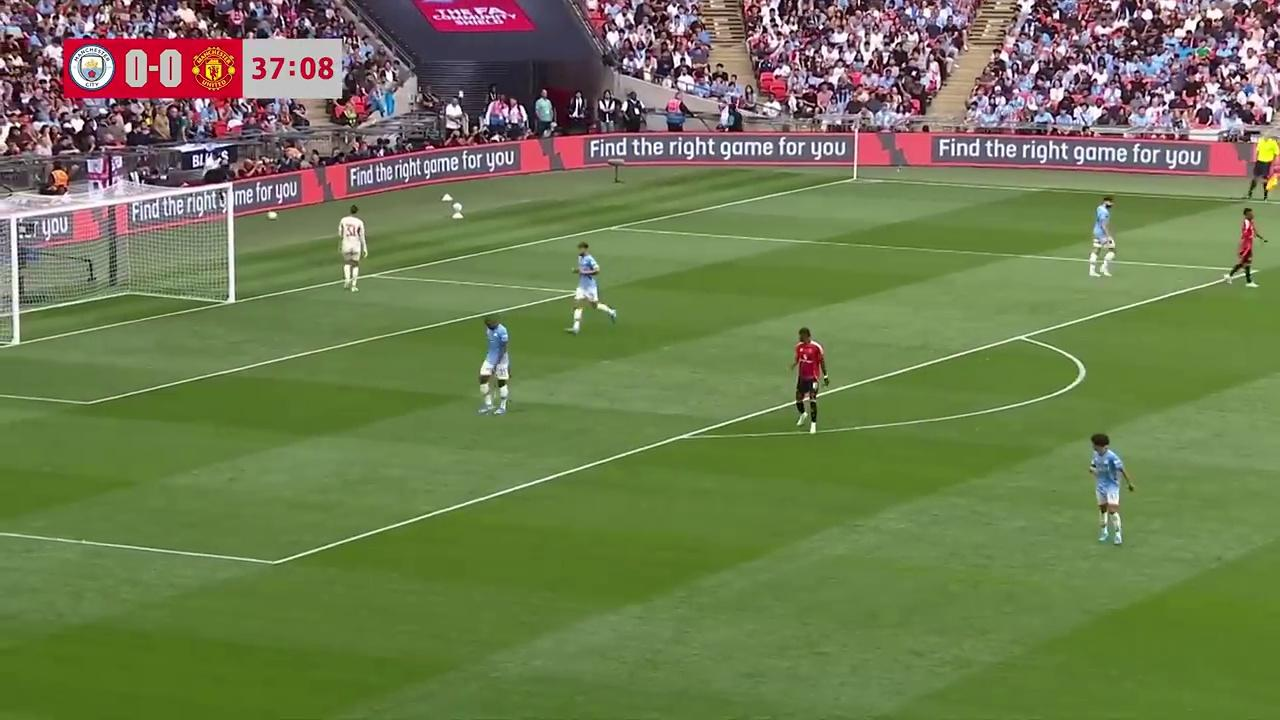player: (1087, 433, 1135, 545), (568, 242, 617, 333), (787, 326, 828, 433), (1224, 208, 1266, 287), (477, 316, 510, 415), (1088, 196, 1122, 278), (342, 206, 370, 291)
referee: (1246, 134, 1280, 199)
